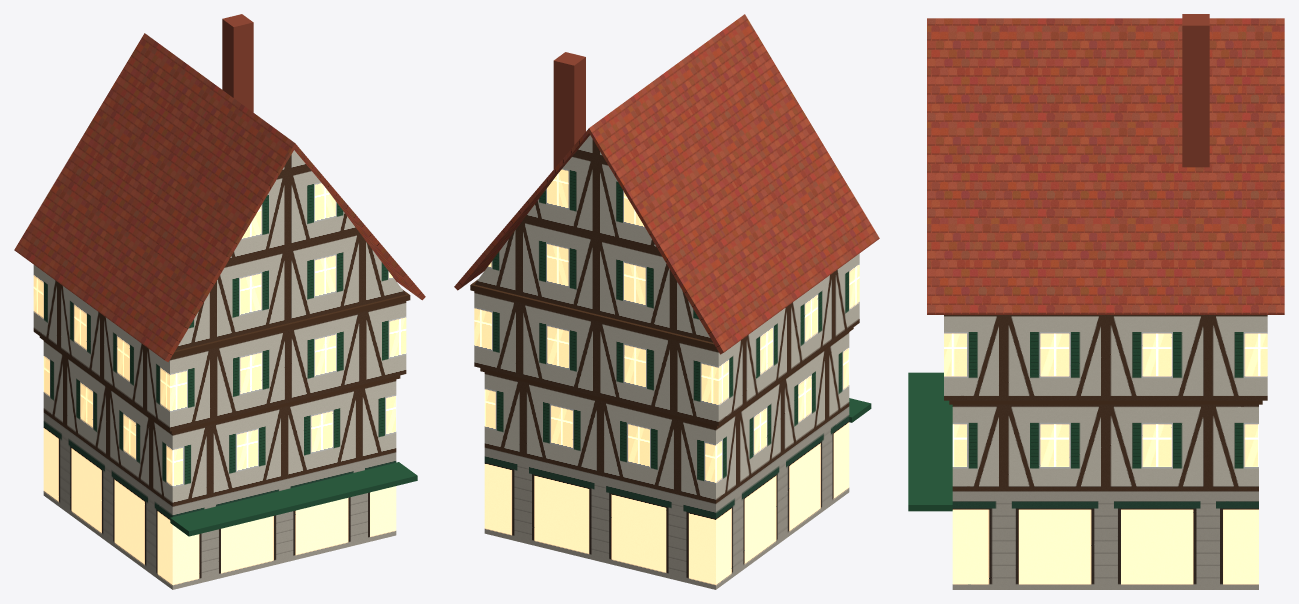
The model's file is eu_shop_a.glb.
3 renders of one model, left to right at view 1: azimuth 30°, elevation 25°; view 2: azimuth 150°, elevation 25°; view 3: azimuth 270°, elevation 25°, orthographic. The views are drawn at different scales.
Visible parts, largest first — view 1: roof; view 2: roof; view 3: roof.
Part boxes in pixels (x1,y1,x2,y2): roof: [14, 14, 425, 589]; roof: [454, 14, 879, 589]; roof: [908, 14, 1284, 589].
Size of the model in its own units: 10.5 by 17.42 by 11.05.
Materials: 6 (3 with a texture image).
